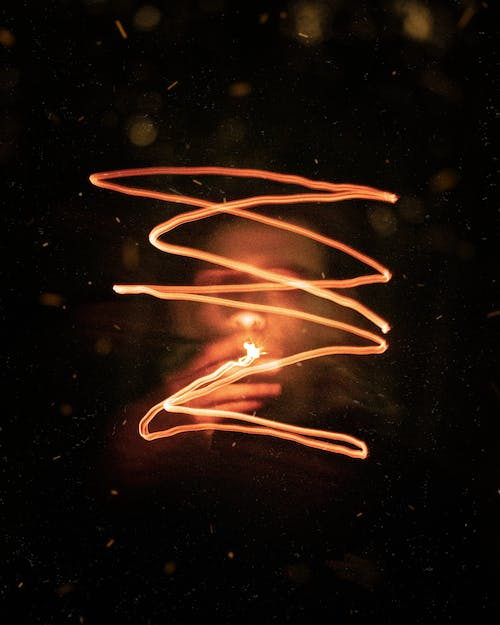cigarette: (240, 338, 263, 359)
